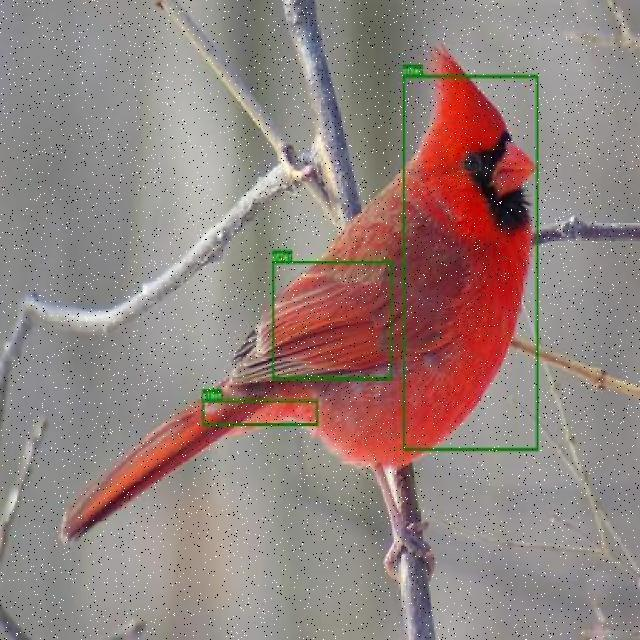Smoke: (402, 74, 538, 450), (272, 260, 392, 380), (202, 400, 318, 426)
